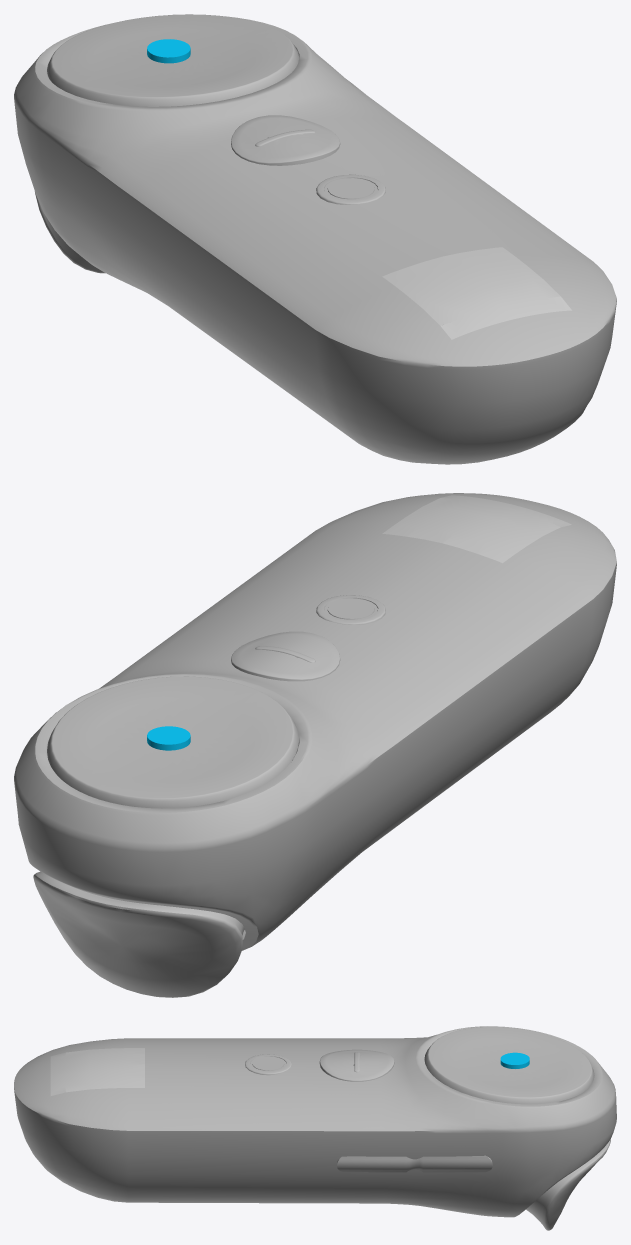
Rendered from controller00.fbx.
3 renders of one model, top to bottom at view 1: azimuth 30°, elevation 25°; view 2: azimuth 150°, elevation 25°; view 3: azimuth 270°, elevation 25°, orthographic. The views are drawn at different scales.
Parts seen in each view (by area): view 1: __CM__Body, __CM__TouchPad, __CM__Battery, __CM__AppButton, __CM__HomeButton, __CM__TouchPad_Touch, __CM__DigitalTriggerKey; view 2: __CM__Body, __CM__TouchPad, __CM__DigitalTriggerKey, __CM__Battery, __CM__AppButton, __CM__HomeButton, __CM__TouchPad_Touch; view 3: __CM__Body, __CM__TouchPad, __CM__Battery, __CM__VolumeKey, __CM__AppButton, __CM__DigitalTriggerKey, __CM__HomeButton, __CM__TouchPad_Touch.
Part boxes in pixels (x1=…): __CM__Body: x1=14, y1=16, x2=616, y2=464; __CM__TouchPad: x1=47, y1=14, x2=298, y2=106; __CM__Battery: x1=382, y1=247, x2=571, y2=339; __CM__AppButton: x1=231, y1=115, x2=340, y2=165; __CM__HomeButton: x1=316, y1=174, x2=385, y2=204; __CM__TouchPad_Touch: x1=147, y1=39, x2=190, y2=63; __CM__DigitalTriggerKey: x1=35, y1=192, x2=105, y2=273; __CM__Body: x1=14, y1=493, x2=616, y2=950; __CM__TouchPad: x1=47, y1=676, x2=298, y2=808; __CM__DigitalTriggerKey: x1=33, y1=871, x2=244, y2=997; __CM__Battery: x1=382, y1=495, x2=571, y2=563; __CM__AppButton: x1=231, y1=631, x2=340, y2=681; __CM__HomeButton: x1=316, y1=595, x2=385, y2=624; __CM__TouchPad_Touch: x1=147, y1=726, x2=190, y2=750; __CM__Body: x1=14, y1=1026, x2=616, y2=1217; __CM__TouchPad: x1=424, y1=1026, x2=594, y2=1104; __CM__Battery: x1=50, y1=1048, x2=144, y2=1095; __CM__VolumeKey: x1=337, y1=1155, x2=492, y2=1172; __CM__AppButton: x1=319, y1=1049, x2=394, y2=1081; __CM__DigitalTriggerKey: x1=526, y1=1139, x2=610, y2=1230; __CM__HomeButton: x1=245, y1=1054, x2=291, y2=1075; __CM__TouchPad_Touch: x1=500, y1=1052, x2=529, y2=1068.
Bounding box in the file's own units: 37.1 × 31.16 × 102.
